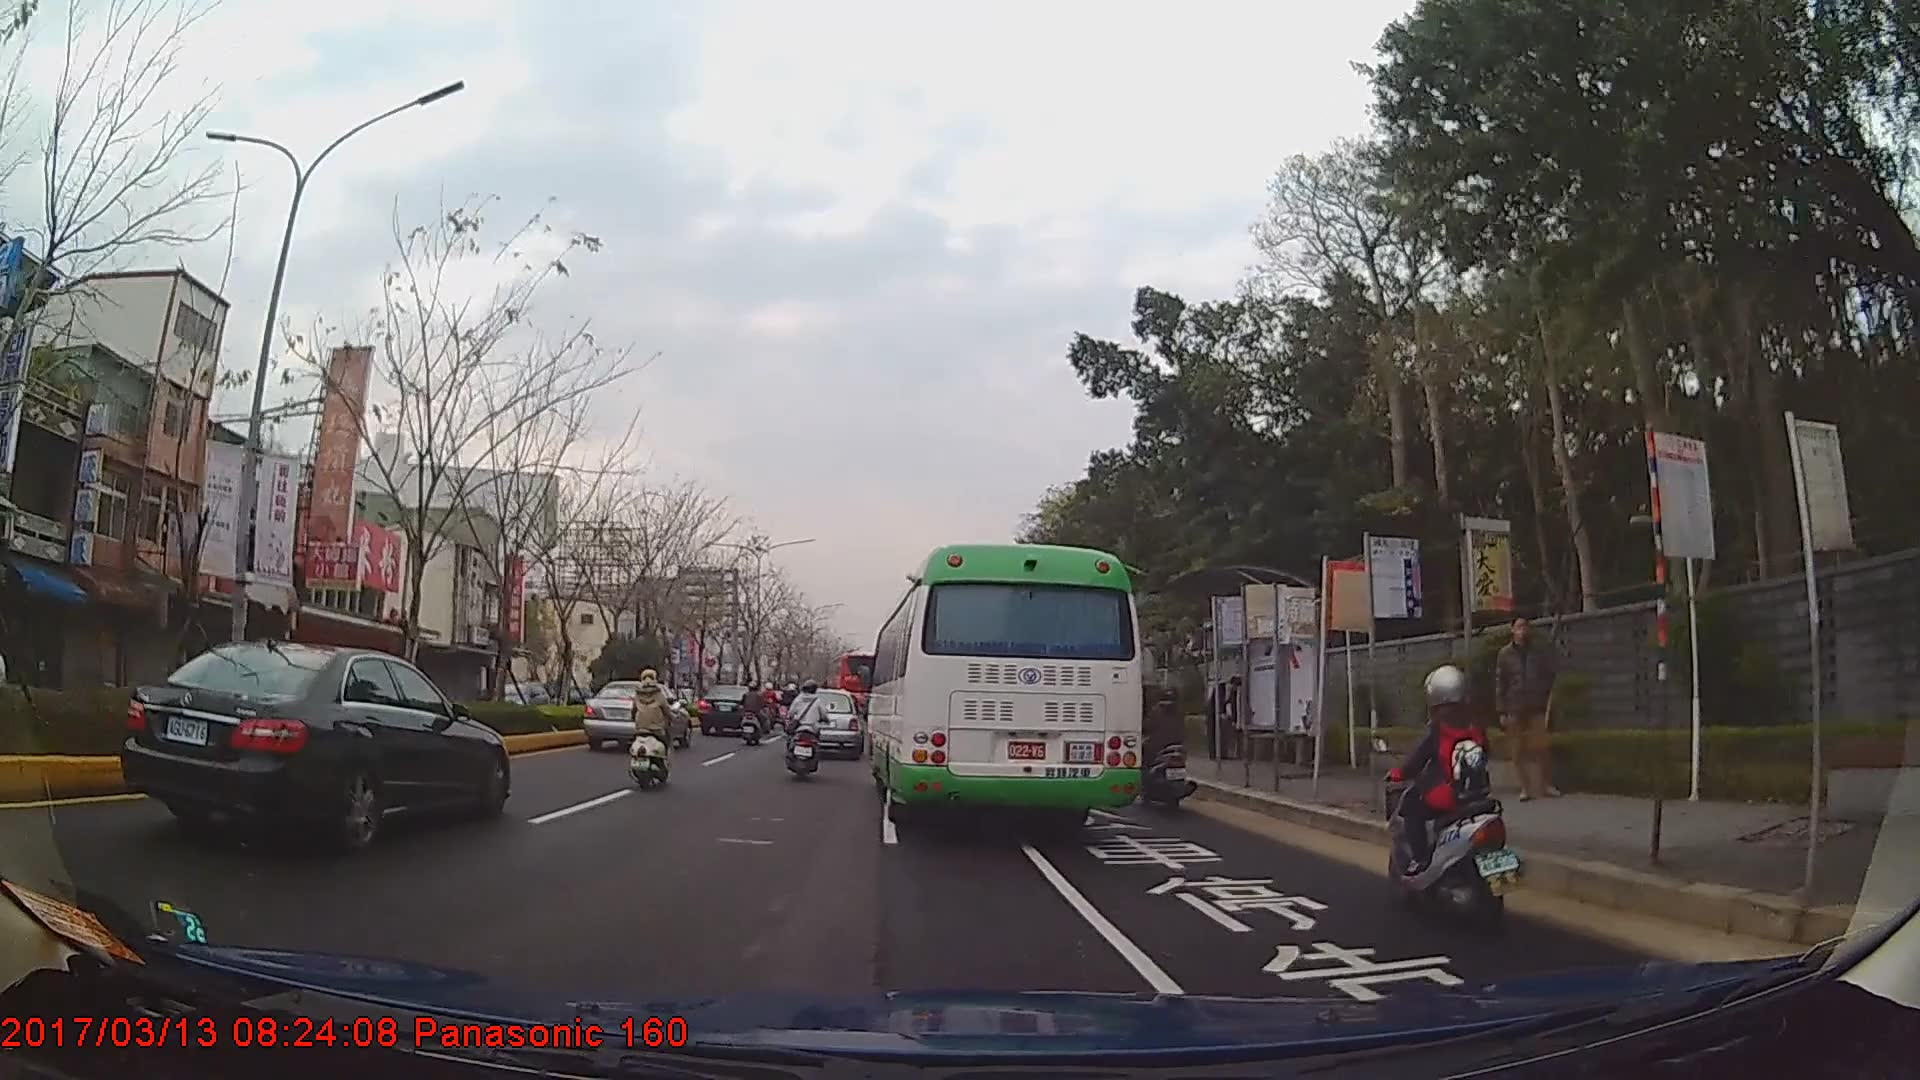pedestrian: (1491, 610, 1564, 802), (1201, 674, 1244, 762)
rider: (1378, 660, 1521, 927), (1139, 680, 1201, 809), (627, 669, 675, 787), (787, 683, 832, 778), (741, 682, 770, 745), (783, 683, 804, 723)
vehicle: (117, 638, 508, 856), (865, 542, 1143, 830), (584, 679, 692, 749), (787, 687, 863, 763), (698, 682, 766, 737), (482, 676, 553, 723)
